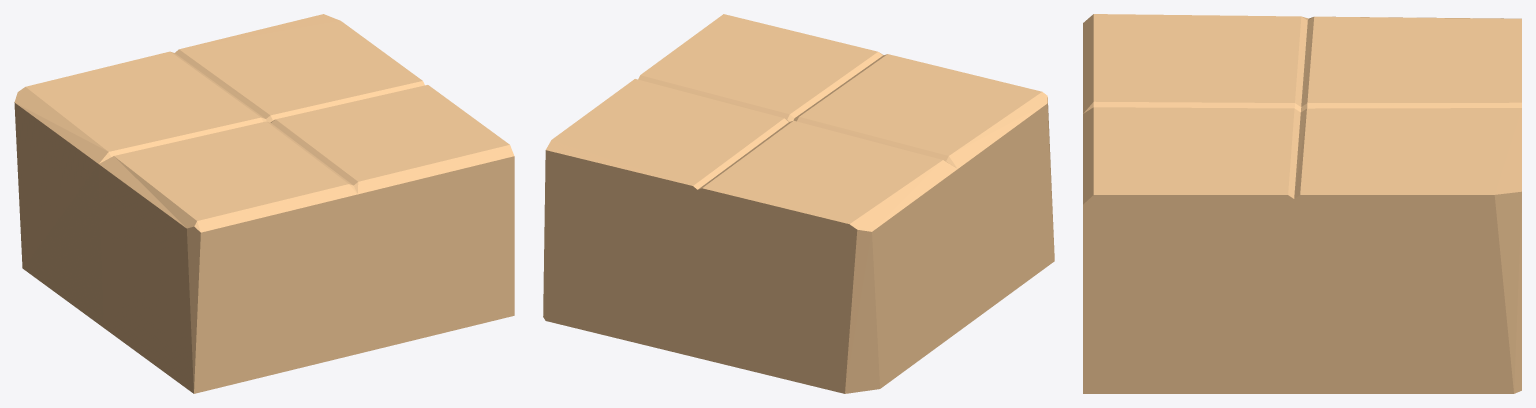
File: 3D_Big_Block.FBX
3 renders of one model, left to right at view 1: azimuth 30°, elevation 25°; view 2: azimuth 150°, elevation 25°; view 3: azimuth 270°, elevation 25°, orthographic. The views are drawn at different scales.
Visible parts, largest first — view 1: 3D_Big_Block; view 2: 3D_Big_Block; view 3: 3D_Big_Block.
Part boxes in pixels (<box>): 3D_Big_Block: <box>14,14,514,393</box>; 3D_Big_Block: <box>543,14,1054,393</box>; 3D_Big_Block: <box>1083,14,1521,393</box>.
Bounding box in the file's own units: 200 × 100 × 200.
1 material, 1 textured.
